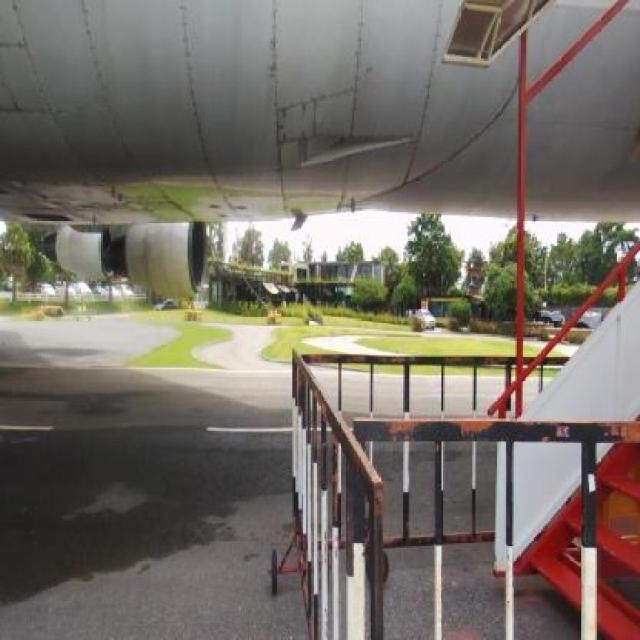Missing-Rivet: (173, 9, 230, 208), (264, 9, 294, 214), (410, 12, 445, 173), (346, 8, 368, 201), (288, 96, 354, 144)
